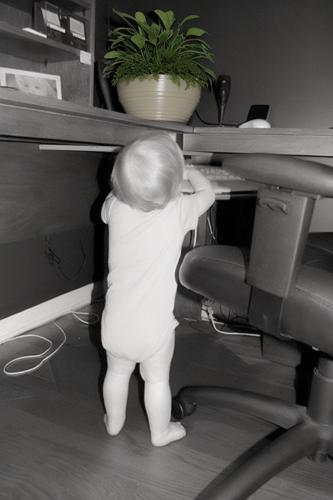chair: (175, 147, 333, 500)
person: (89, 130, 217, 450)
person/foot: (148, 421, 187, 447), (103, 417, 127, 435)
person/head: (112, 134, 184, 210)
pottedplant: (104, 8, 216, 121)
